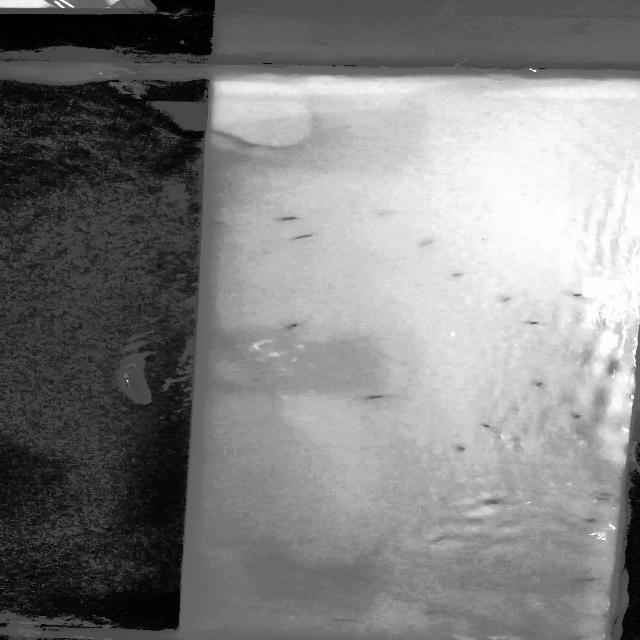shrimp: (349, 391, 403, 401), (274, 211, 315, 223), (324, 614, 366, 624), (276, 318, 316, 328), (283, 231, 317, 242), (445, 270, 474, 282), (566, 414, 594, 424), (573, 576, 599, 585), (534, 377, 552, 390), (449, 445, 477, 453), (475, 421, 497, 431), (499, 295, 521, 305), (584, 515, 606, 523), (483, 497, 502, 506), (520, 320, 550, 325), (563, 294, 582, 298)
